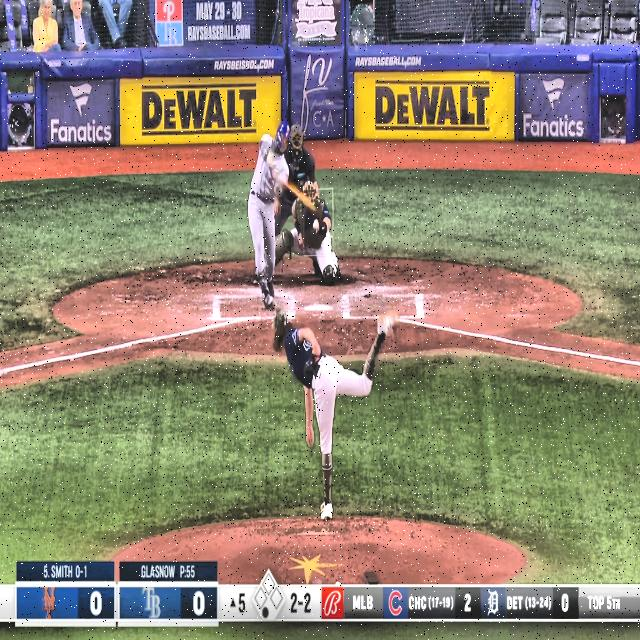baseball: (312, 217, 320, 232)
